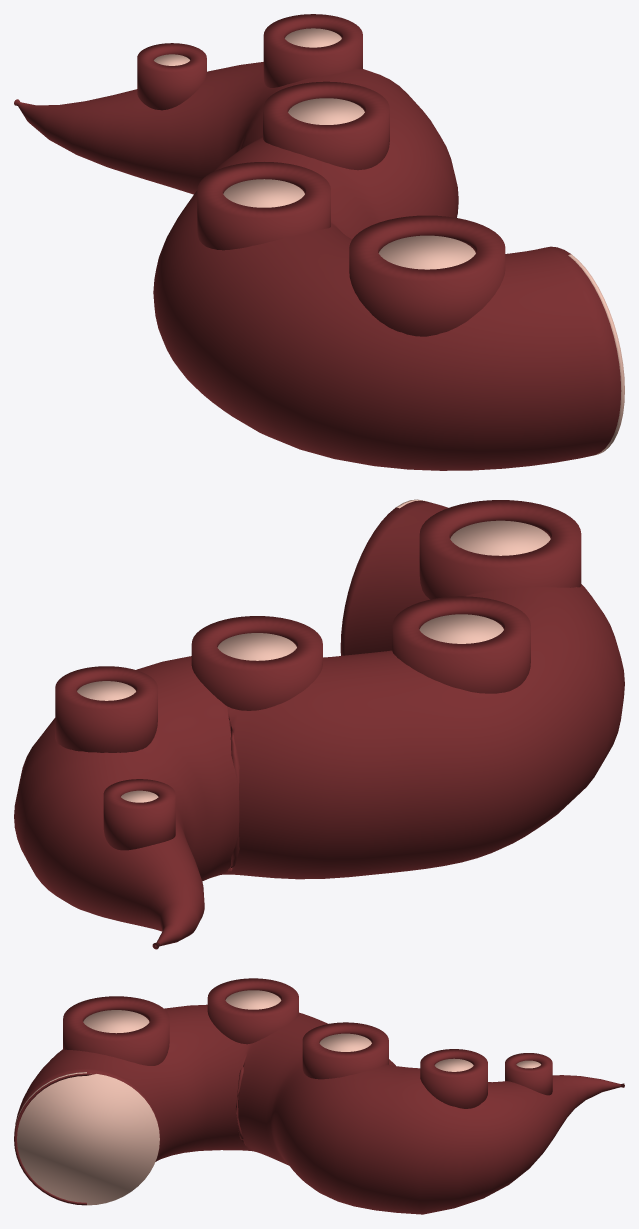
The model's file is RareTentacle.fbx.
The picture shows the model from 3 angles, top to bottom: view 1: azimuth 30°, elevation 25°; view 2: azimuth 150°, elevation 25°; view 3: azimuth 270°, elevation 25°; orthographic projection. The views are drawn at different scales.
Parts seen in each view (by area): view 1: TheOctopus; view 2: TheOctopus; view 3: TheOctopus.
Boxes of the visible parts, x1,y1,x2,y2 form: TheOctopus: (14, 14, 624, 470); TheOctopus: (14, 499, 624, 949); TheOctopus: (14, 978, 624, 1214).
Bounding box in the file's own units: 73.69 × 39.9 × 151.
